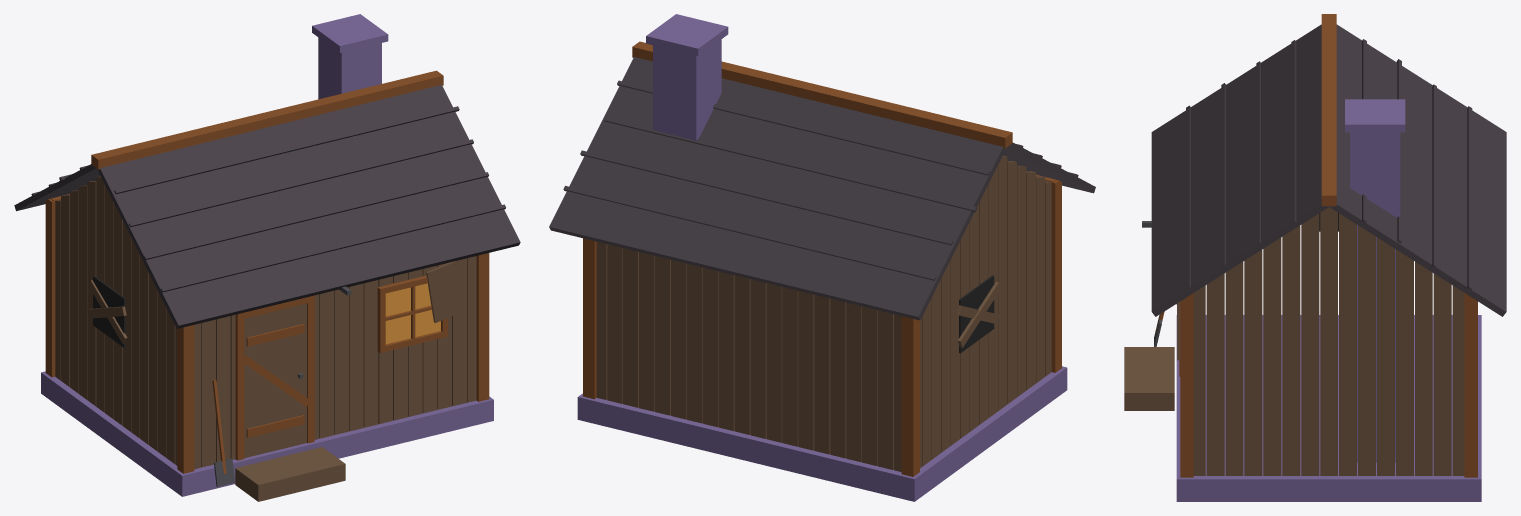
File: GravediggerShack.fbx
3 views of the same model, side by side, from view 1: azimuth 30°, elevation 25°; view 2: azimuth 150°, elevation 25°; view 3: azimuth 270°, elevation 25° (orthographic). The views are drawn at different scales.
Parts seen in each view (by area): view 1: GravediggerShack, Door; view 2: GravediggerShack; view 3: GravediggerShack.
Boxes of the visible parts, left/top/right/bottom form: GravediggerShack: left=14, top=14, right=520, bottom=501; Door: left=241, top=303, right=310, bottom=458; GravediggerShack: left=549, top=14, right=1095, bottom=501; GravediggerShack: left=1124, top=14, right=1506, bottom=501.
Bounding box in the file's own units: 5.21 × 4.79 × 4.57.
